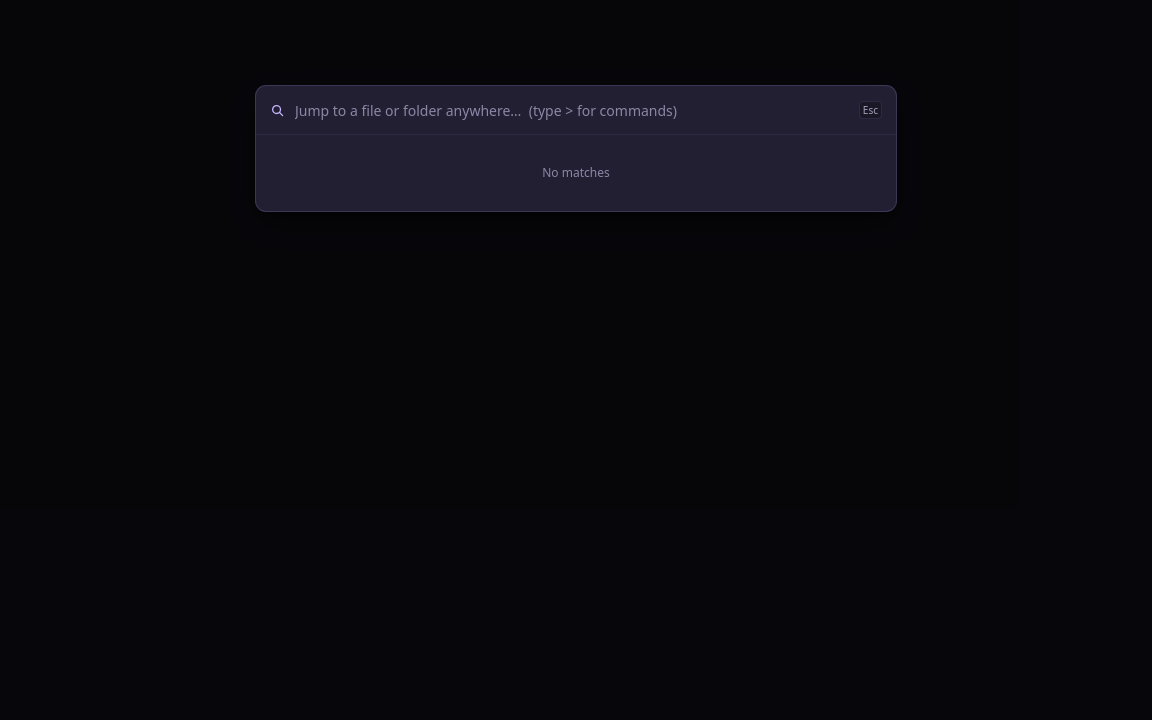
command palette file search › accuracy › shows only literal matches, best first, and never asks for fuzzy ones
Type "zadanie" into the field named "Palette query".
click(572, 110); type("zadanie")  # box [295,86,849,134]
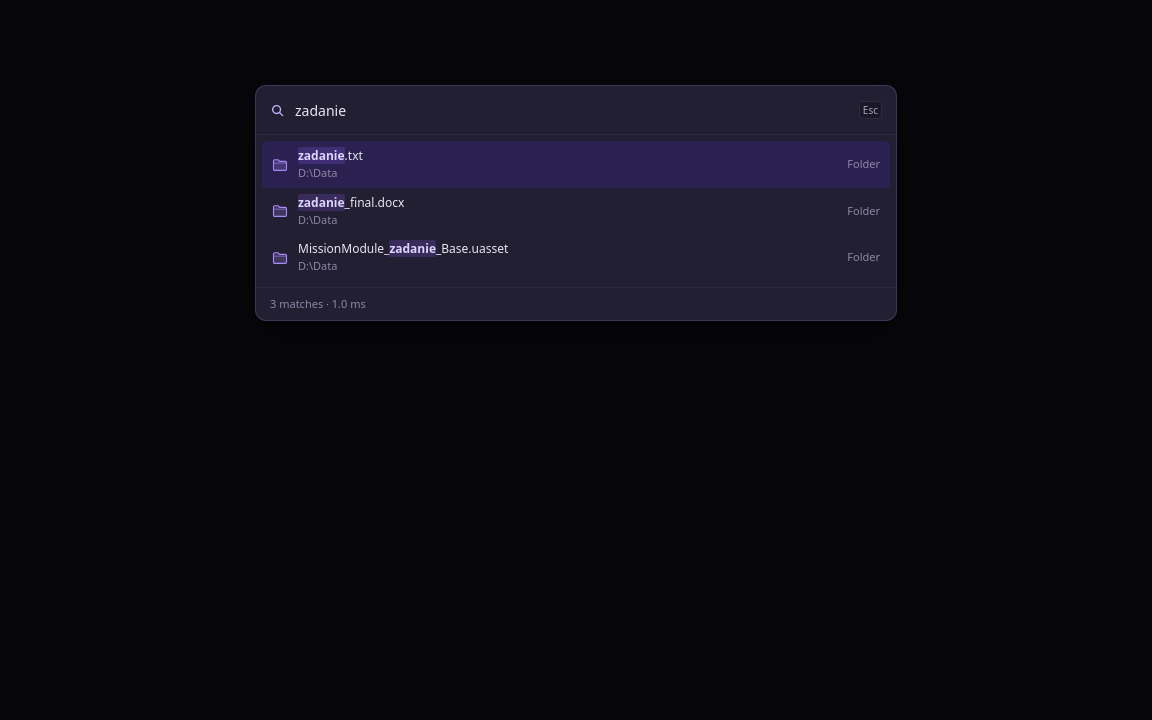
Check: the dialog shows "3 matches", box [256,86,896,320]
